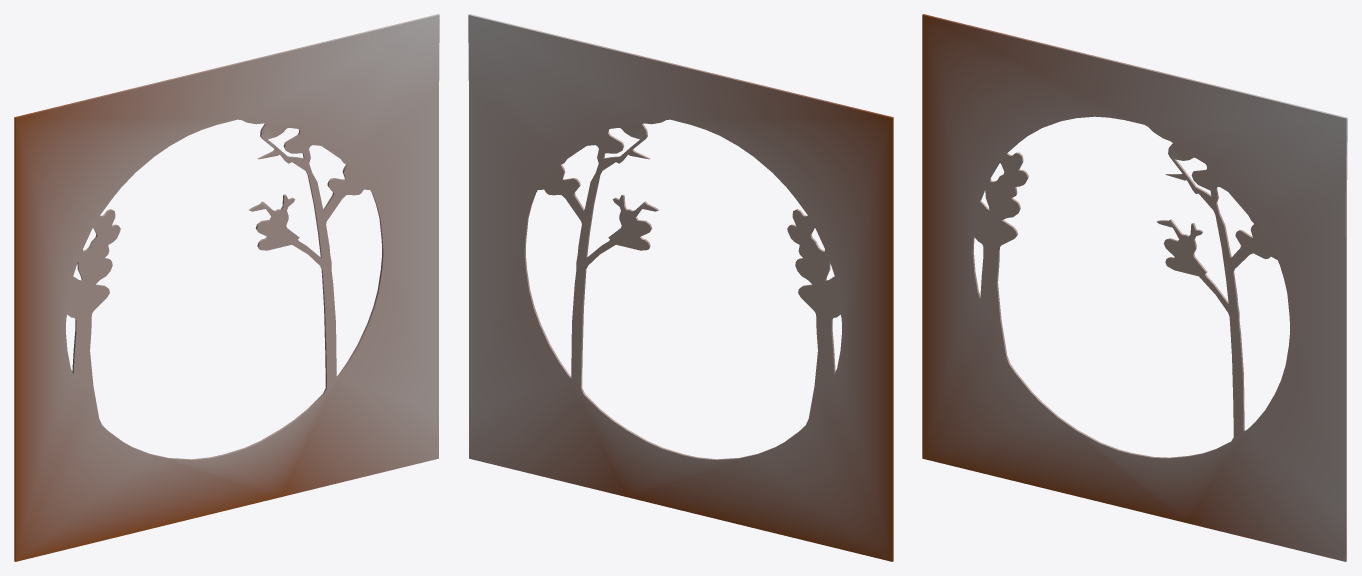
Rendered from fall_3a.fbx.
3 views of the same model, side by side, from view 1: azimuth 30°, elevation 25°; view 2: azimuth 150°, elevation 25°; view 3: azimuth 330°, elevation 25° (orthographic).
Visible parts, largest first — view 1: fall_3a; view 2: fall_3a; view 3: fall_3a.
Boxes of the visible parts, x1,y1,x2,y2 form: fall_3a: [14, 14, 439, 561]; fall_3a: [468, 14, 893, 561]; fall_3a: [922, 14, 1347, 561].
Size of the model in its own units: 199 by 198 by 1.22.
